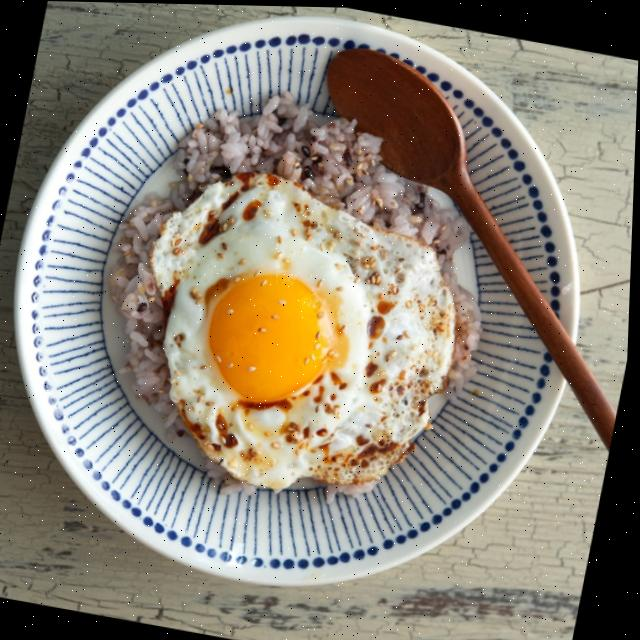Egg: (152, 172, 457, 488)
